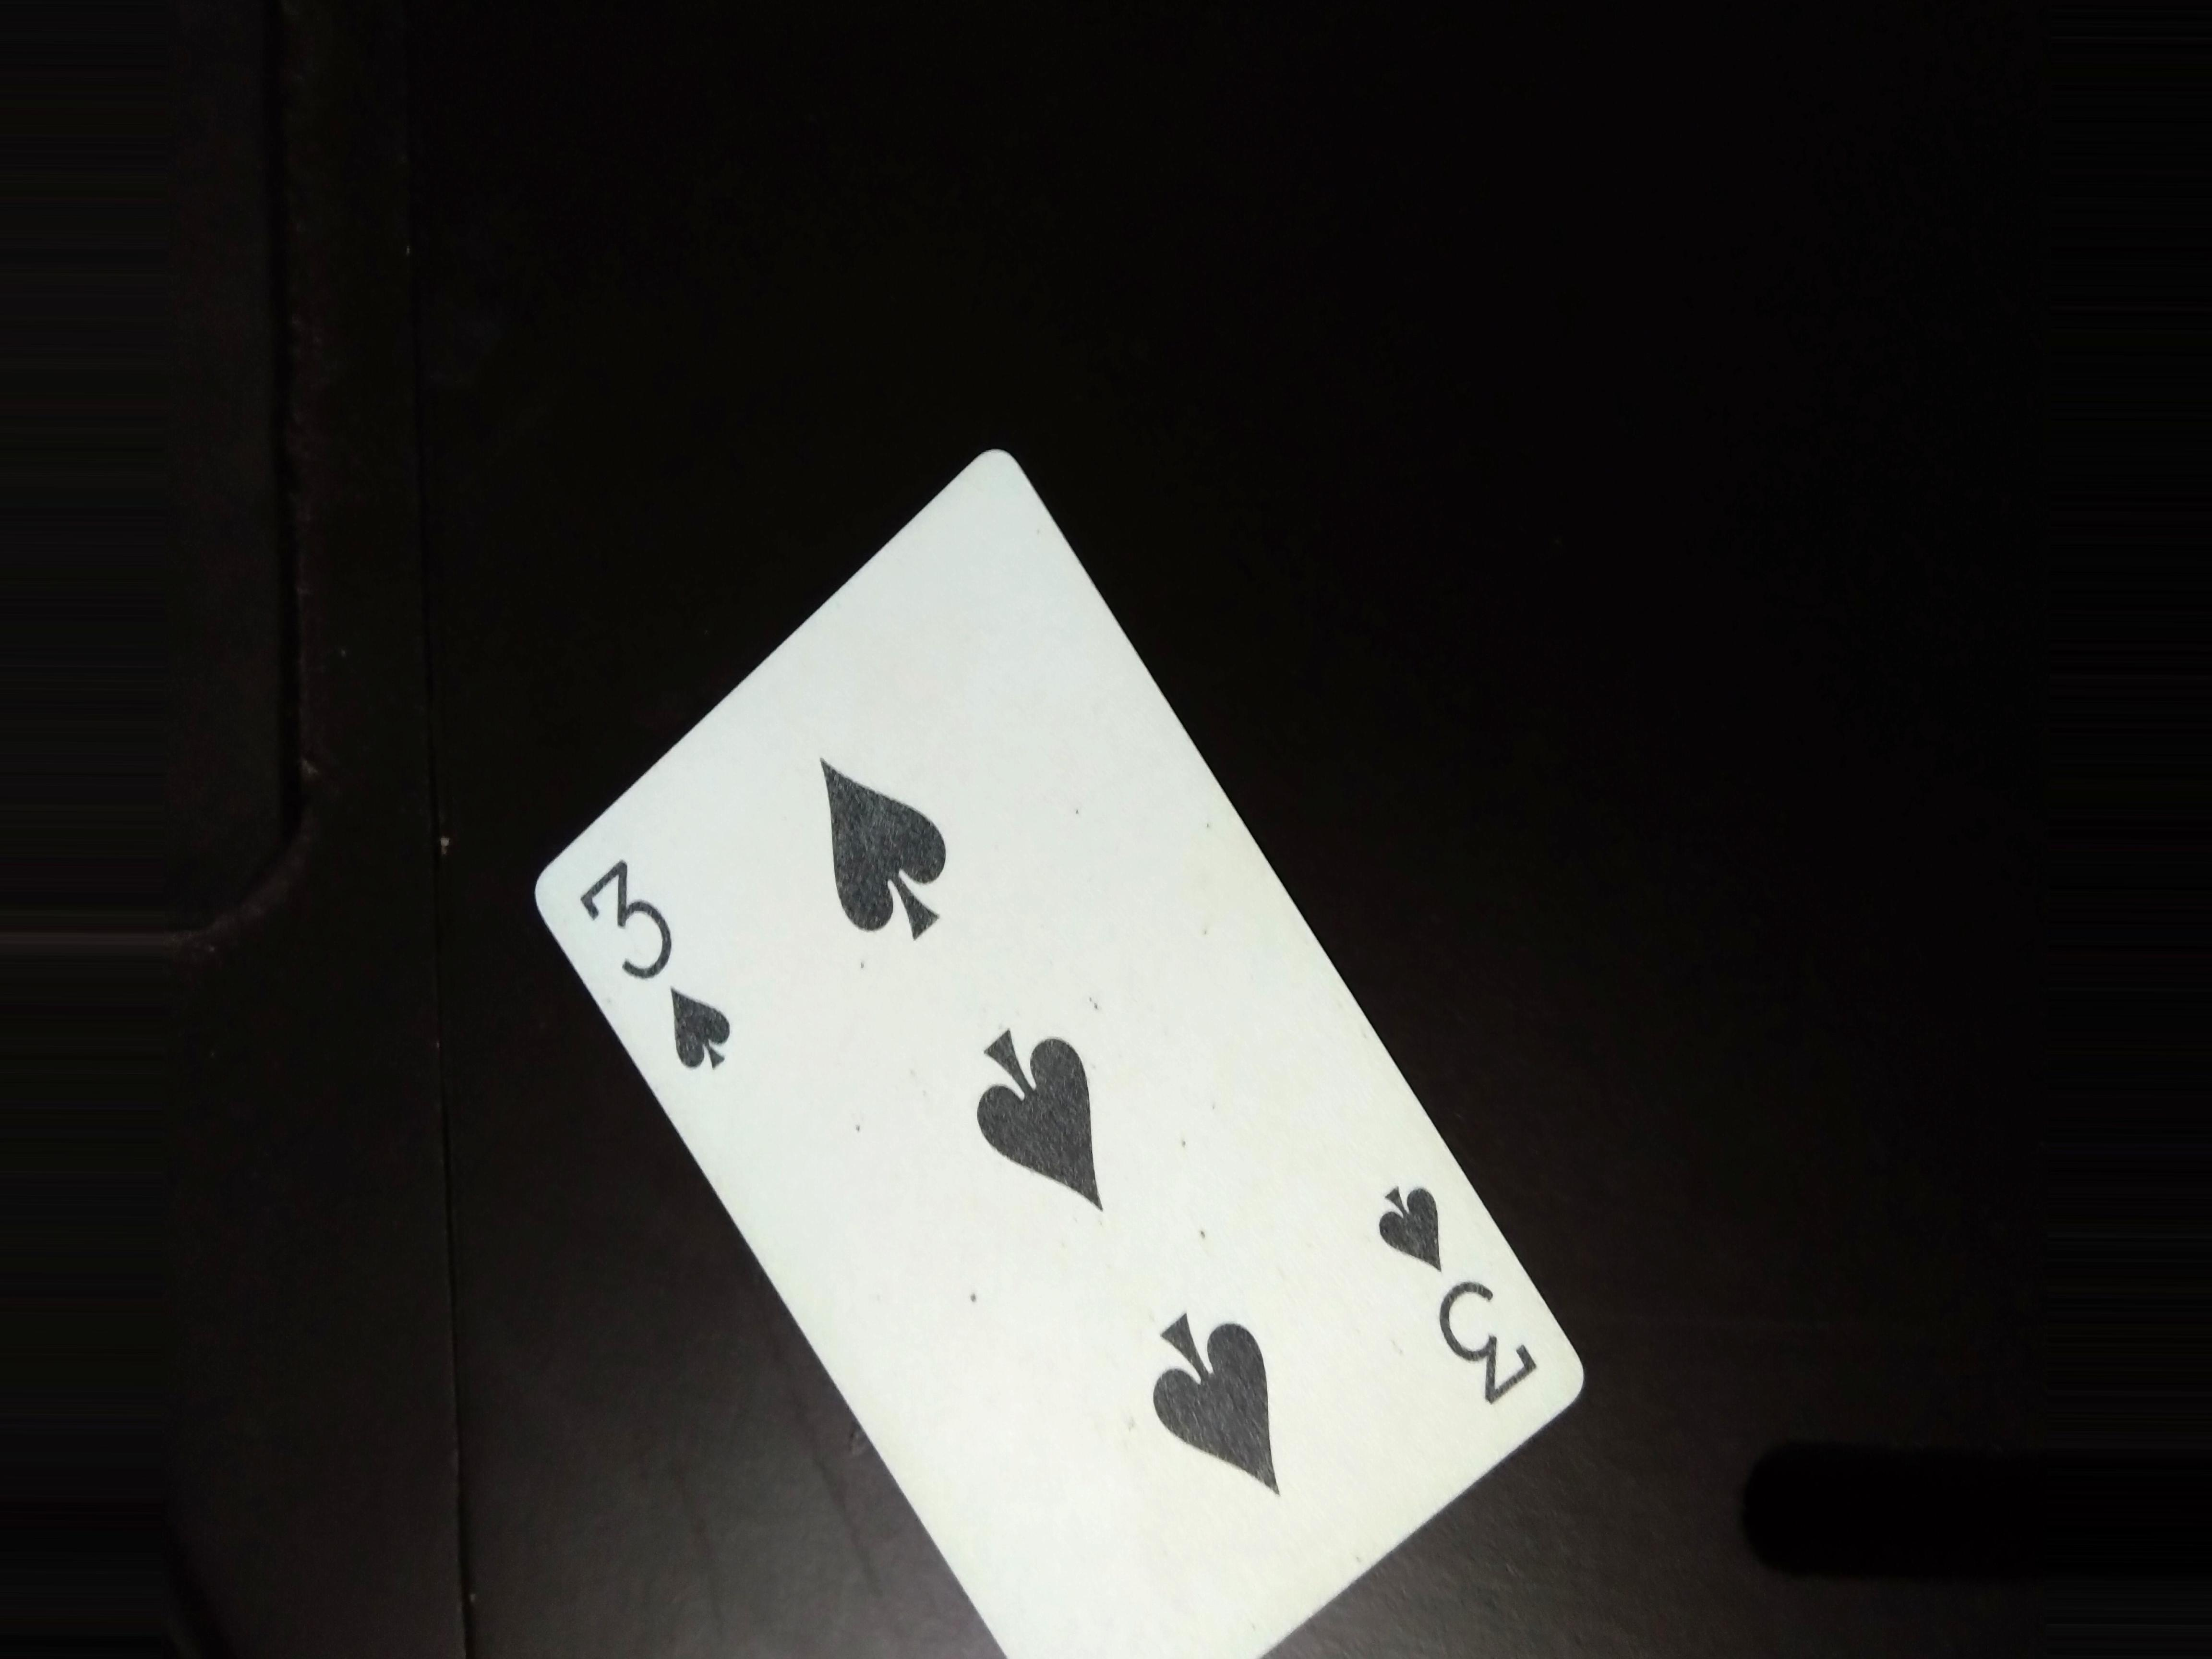3S: (577, 859, 752, 1087)
